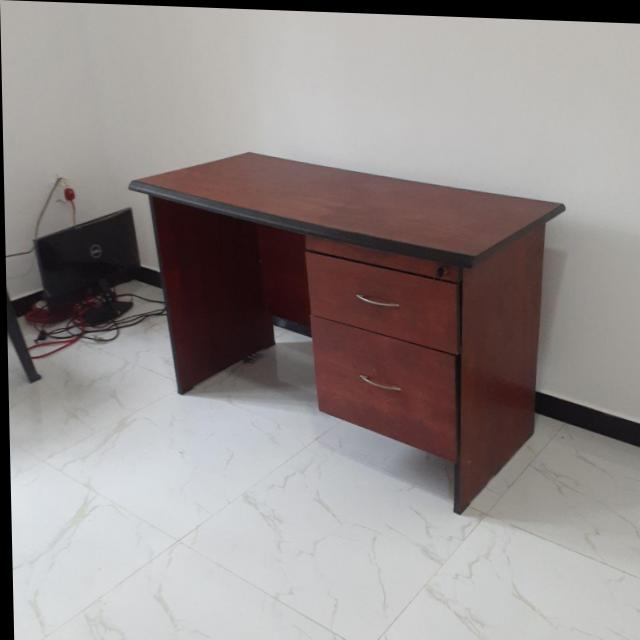Table: (124, 123, 582, 549)
